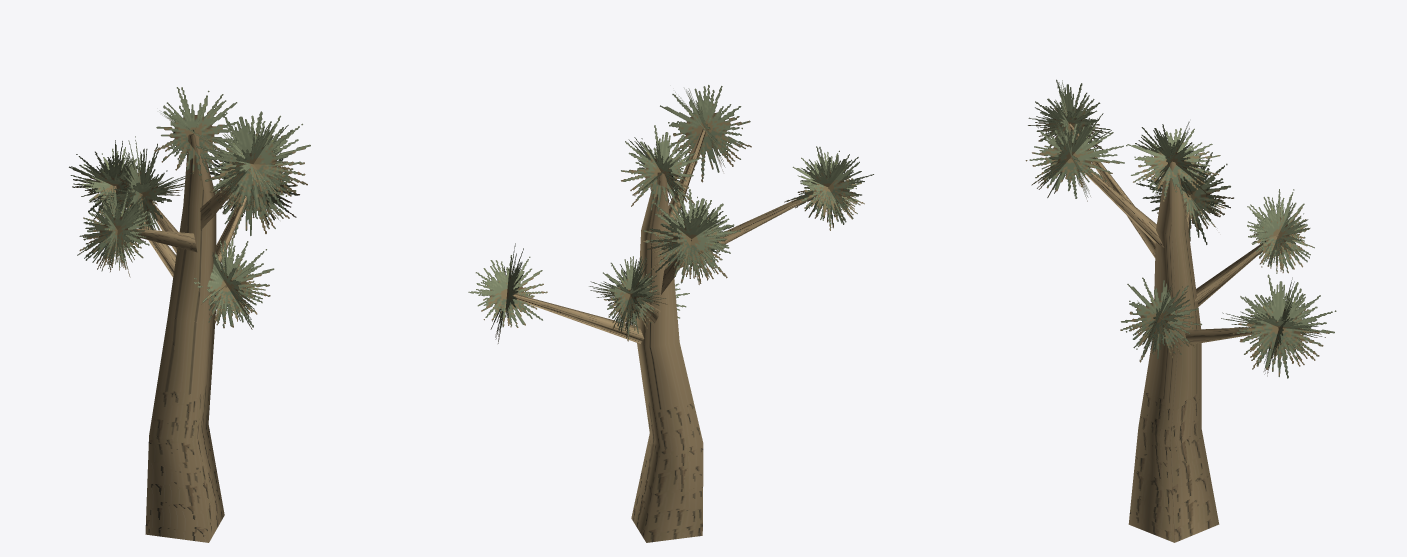
Rendered from rocky-joshua-tree-mobile.glb.
3 views of the same model, side by side, from view 1: azimuth 30°, elevation 25°; view 2: azimuth 150°, elevation 25°; view 3: azimuth 270°, elevation 25° (orthographic). The views are drawn at different scales.
Visible parts, largest first — view 1: Rocky Joshua tree mobile v3 runtime; view 2: Rocky Joshua tree mobile v3 runtime; view 3: Rocky Joshua tree mobile v3 runtime.
Boxes of the visible parts, x1,y1,x2,y2 form: Rocky Joshua tree mobile v3 runtime: [69, 87, 310, 542]; Rocky Joshua tree mobile v3 runtime: [468, 85, 873, 542]; Rocky Joshua tree mobile v3 runtime: [1025, 79, 1336, 542].
Size of the model in its own units: 5.76 by 6.48 by 5.36.
Materials: 1 (1 with a texture image).
